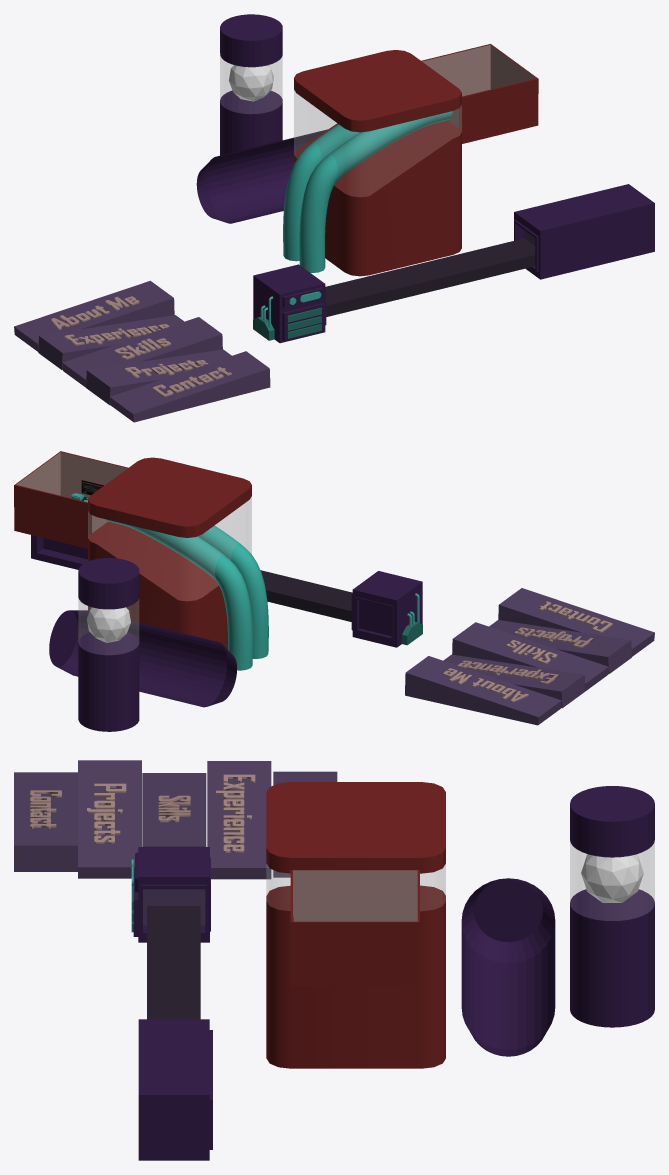
File: factorylowpoly.glb
The picture shows the model from 3 angles, top to bottom: view 1: azimuth 30°, elevation 25°; view 2: azimuth 150°, elevation 25°; view 3: azimuth 270°, elevation 25°; orthographic projection. The views are drawn at different scales.
Parts seen in each view (by area): view 1: Plane, Plane.010, Plane.009, Plane.008, Plane.017, Plane.011, Circle, Contact, BezierCurve.001, AboutMe, Skills, Plane.012 (+7 smaller); view 2: Plane.009, Plane, Circle, Plane.008, Plane.017, Circle.003, AboutMe, BezierCurve, Plane.012, Skills, Contact, Projects (+7 smaller); view 3: Plane, Plane.009, Plane.017, Circle, Circle.003, Plane.010, Projects, Experience, Contact, Plane.011, Circle.004, Plane.012 (+5 smaller).
Part boxes in pixels (x1,y1,x2,y2): Plane: [294, 120, 461, 276]; Plane.010: [514, 184, 654, 279]; Plane.009: [294, 50, 461, 132]; Plane.008: [294, 90, 461, 196]; Plane.017: [421, 44, 538, 143]; Plane.011: [325, 238, 535, 316]; Circle: [196, 129, 327, 223]; Contact: [109, 351, 270, 422]; BezierCurve.001: [299, 111, 452, 272]; AboutMe: [14, 280, 174, 351]; Skills: [62, 317, 222, 387]; Plane.012: [253, 264, 326, 343]; Plane.009: [88, 457, 251, 537]; Plane: [88, 521, 227, 649]; Circle: [49, 610, 236, 707]; Plane.008: [88, 497, 251, 600]; Plane.017: [14, 451, 128, 548]; Circle.003: [78, 632, 139, 731]; AboutMe: [405, 656, 561, 725]; BezierCurve: [106, 519, 252, 670]; Plane.012: [351, 571, 422, 647]; Skills: [452, 622, 608, 691]; Contact: [498, 588, 654, 656]; Projects: [489, 620, 631, 674]; Plane: [266, 885, 445, 1068]; Plane.009: [266, 782, 445, 873]; Plane.017: [290, 870, 419, 985]; Circle: [461, 878, 555, 1056]; Circle.003: [570, 889, 654, 1027]; Plane.010: [138, 1019, 212, 1160]; Projects: [78, 760, 141, 878]; Experience: [207, 761, 271, 879]; Contact: [14, 772, 77, 871]; Plane.011: [147, 906, 200, 1019]; Circle.004: [570, 786, 654, 857]; Plane.012: [133, 847, 210, 942].
Size of what is drawn, in the model's own units: 25 by 6.66 by 18.04.
11 materials, 1 textured.
